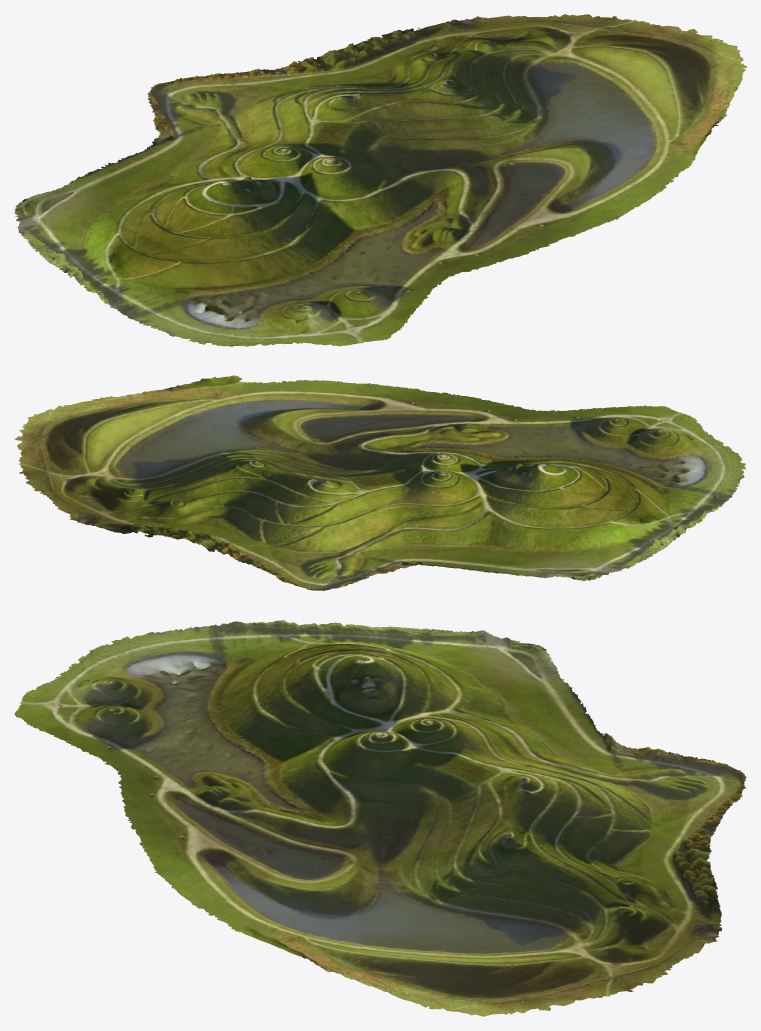
File: northumberlandia_standard.glb
3 renders of one model, top to bottom at view 1: azimuth 30°, elevation 25°; view 2: azimuth 150°, elevation 25°; view 3: azimuth 270°, elevation 25°, orthographic. The views are drawn at different scales.
Parts seen in each view (by area): view 1: Model_material0_0; view 2: Model_material0_0; view 3: Model_material0_0.
Boxes of the visible parts, left/top/right/bottom form: Model_material0_0: left=14, top=14, right=746, bottom=346; Model_material0_0: left=14, top=375, right=746, bottom=591; Model_material0_0: left=14, top=620, right=746, bottom=1016.
Size of the model in its own units: 47.04 by 3.4 by 36.36.
Materials: 1 (1 with a texture image).
